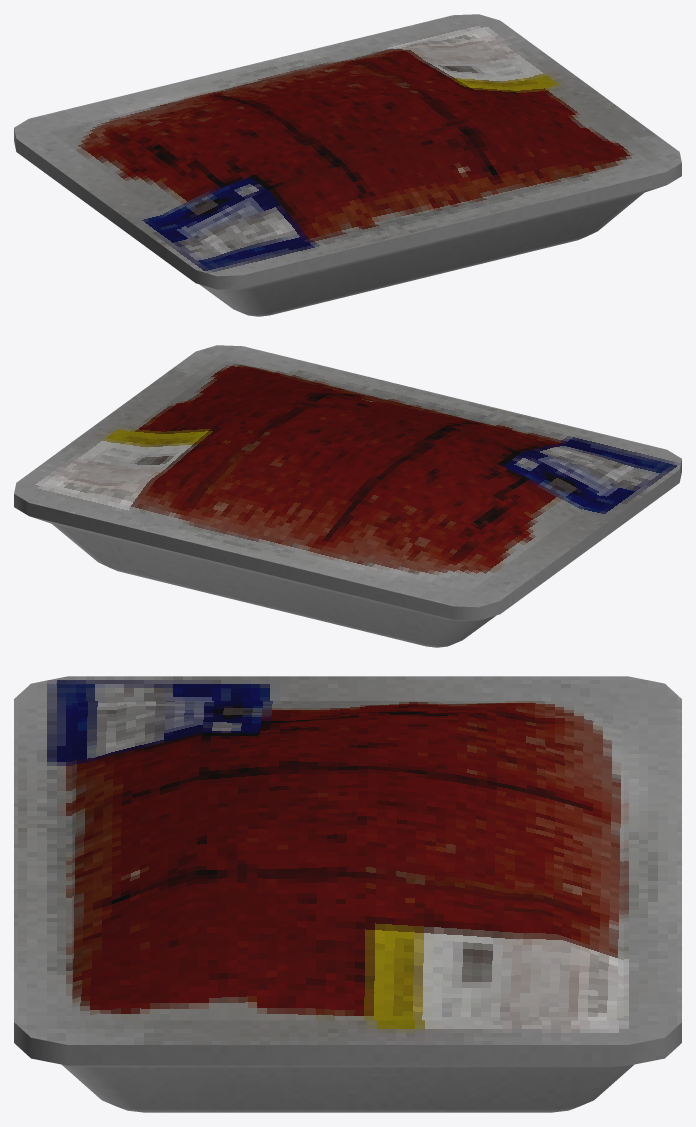
The model's file is meat_1.glb.
3 views of the same model, one above another, from view 1: azimuth 30°, elevation 25°; view 2: azimuth 150°, elevation 25°; view 3: azimuth 270°, elevation 25° (orthographic). The views are drawn at different scales.
Parts seen in each view (by area): view 1: meat_1; view 2: meat_1; view 3: meat_1.
Part boxes in pixels (box(x1,y1,x2,y2)): meat_1: box(14, 14, 681, 316); meat_1: box(14, 345, 681, 647); meat_1: box(14, 676, 681, 1112).
Size of the model in its own units: 0.342 by 0.0775 by 0.2619.
1 material, 1 textured.
